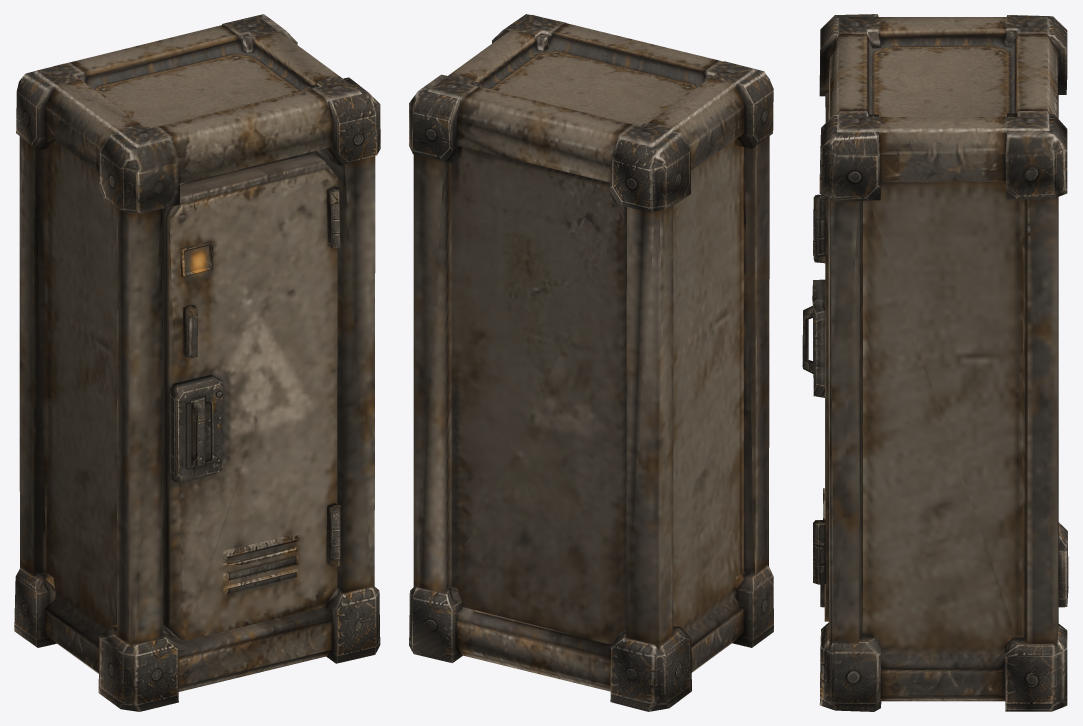
Rendered from Locker.glb.
3 views of the same model, side by side, from view 1: azimuth 30°, elevation 25°; view 2: azimuth 150°, elevation 25°; view 3: azimuth 270°, elevation 25° (orthographic). The views are drawn at different scales.
Bounding box in the file's own units: 0.9785 × 2 × 0.8398.
Materials: 1 (1 with a texture image).
